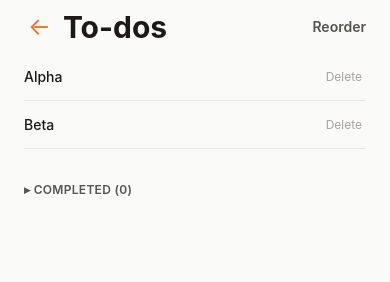
it: TodosManageScreen › shows order error and refreshes when orderTodos fails after stale 409 retry
Click the button with test id "todos-reorder-toggle".
click(339, 26)  # box [312,16,366,37]
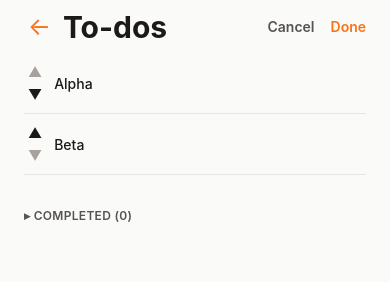
Click the element with test id "todos-reorder-done".
click(348, 26)  # box [330,16,366,37]
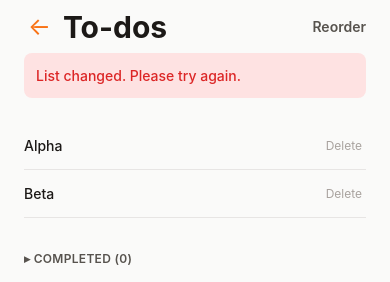
Check: the element with test id "todos-order-error" is shown, box [0,53,389,122]
